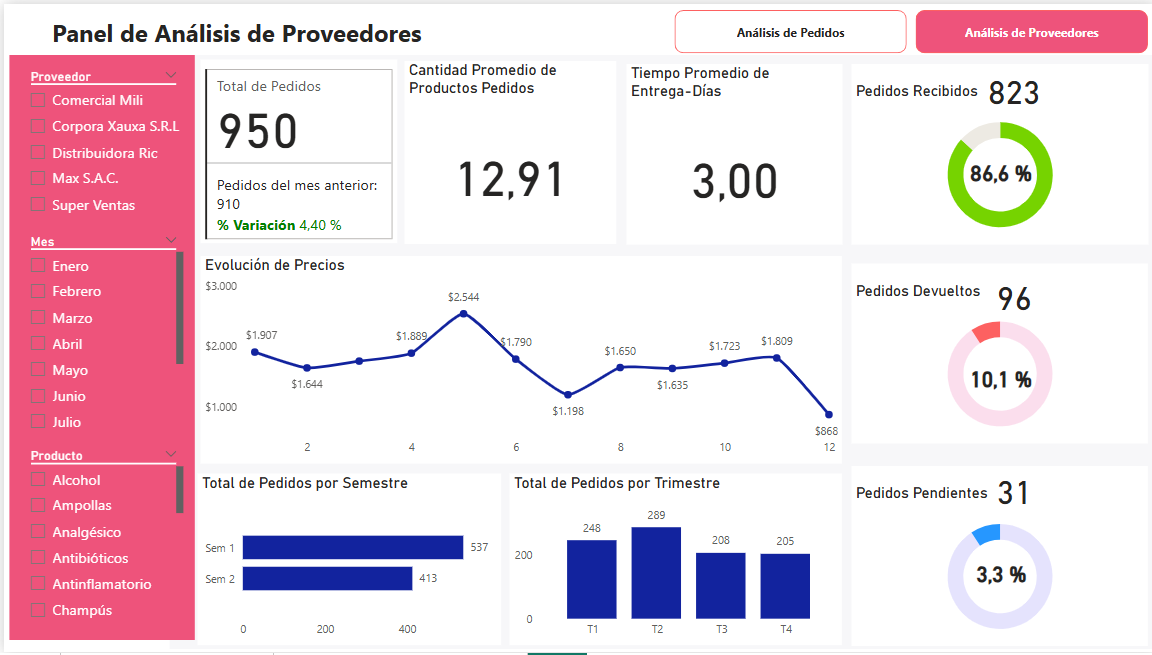

What the dashboard file says about the page in this screenshot:
{"tool":"powerbi","page":{"name":"Análisis de Proveedores","canvas":[1280,720],"ordinal":2},"visuals":[{"type":"cardVisual","fields":{"Data":["Dax Medidas.Total de Pedidos"]},"box":[217.9,62.2,218.8,204.3],"z":0},{"type":"slicer","fields":{"Values":["Calendario2.Mes"]},"box":[17.3,249.9,187.7,238.7],"z":1000},{"type":"card","title":"Cantidad Promedio de Productos Pedidos","fields":{"Values":["Dax Medidas.Cantidad Promedio de Productos Pedidos"]},"box":[444.5,63.2,235.4,203.3],"z":2000},{"type":"card","title":"Tiempo Promedio de Entrega-Días","fields":{"Values":["Dax Medidas.Tiempo Promedio de Entrega-Días"]},"box":[691.6,66.1,240.2,200.4],"z":3000},{"type":"lineChart","title":"Evolución de Precios","fields":{"Category":["Calendario2.Mes Num"],"Y":["Sum(Datos1.Precio U.)"]},"box":[218.8,280.1,712.9,230.5],"z":4000},{"type":"clusteredBarChart","fields":{"Category":["Calendario2.Semestre"],"Y":["Dax Medidas.Total de Pedidos"]},"box":[215,522.3,337.5,190.6],"z":5000},{"type":"clusteredColumnChart","fields":{"Category":["Calendario2.Trimestre"],"Y":["Dax Medidas.Total de Pedidos"]},"box":[562.2,522.3,369.6,190.6],"z":6000},{"type":"donutChart","title":"Pedidos Recibidos ","fields":{"Y":["Dax Medidas.Pedidos Recibidos","Dax Medidas.Gráficos Recibidos"]},"box":[942.5,66.1,329.7,200.4],"z":7000},{"type":"card","fields":{"Values":["Dax Medidas.Pedidos Recibidos"]},"box":[1079.1,66.3,87.7,56.1],"z":8000},{"type":"card","fields":{"Values":["Dax Medidas.% Pedidos Recibidos"]},"box":[1058.2,157.6,98.2,56.4],"z":9000},{"type":"donutChart","title":"Pedidos Devueltos ","fields":{"Y":["Dax Medidas.Gráfico Devueltos","Dax Medidas.Pedidos Devueltos"]},"box":[942.4,288.6,329.4,199.9],"z":10000},{"type":"card","fields":{"Values":["Dax Medidas.% Pedidos Devueltos"]},"box":[1058.7,388.6,97.9,56.1],"z":11000},{"type":"card","fields":{"Values":["Dax Medidas.Pedidos Devueltos"]},"box":[1078.7,295.7,87.5,56.4],"z":12000},{"type":"donutChart","title":"Pedidos Pendientes","fields":{"Y":["Dax Medidas.Gráfico Devueltos","Dax Medidas.Pedidos Devueltos"]},"box":[942.4,513,329.4,200],"z":13000},{"type":"card","fields":{"Values":["Dax Medidas.% Pedidos Pendientes"]},"box":[1058.7,605.8,98.9,56.1],"z":14000},{"type":"card","fields":{"Values":["Dax Medidas.Pedidos Pendientes"]},"box":[1079.1,511,87.7,56.1],"z":15000},{"type":"slicer","fields":{"Values":["Proveedores3.Proveedor"]},"box":[17.3,66.3,187.7,191.7],"z":16000},{"type":"slicer","fields":{"Values":["Productos4.Producto"]},"box":[17.3,488.5,187.7,204],"z":17000},{"type":"textbox","box":[47.9,8.2,433.5,54.1],"z":18000},{"type":"pageNavigator","box":[744.5,6.1,526.3,49],"z":19000}]}

Visuals, with their boxes in screenshot pixels (x1, y1, x2, y2), scaled from the page's 1280x720 canvas onto the 1152x655 screenshot:
cardVisual - Dax Medidas.Total de Pedidos: (196,57,393,242)
slicer - Calendario2.Mes: (16,227,184,444)
"Cantidad Promedio de Productos Pedidos" card: (400,57,612,242)
"Tiempo Promedio de Entrega-Días" card: (622,60,839,242)
"Evolución de Precios" lineChart: (197,255,839,465)
clusteredBarChart - Calendario2.Semestre x Dax Medidas.Total de Pedidos: (194,475,497,649)
clusteredColumnChart - Calendario2.Trimestre x Dax Medidas.Total de Pedidos: (506,475,839,649)
"Pedidos Recibidos " donutChart: (848,60,1145,242)
card - Dax Medidas.Pedidos Recibidos: (971,60,1050,111)
card - Dax Medidas.% Pedidos Recibidos: (952,143,1041,195)
"Pedidos Devueltos " donutChart: (848,263,1145,444)
card - Dax Medidas.% Pedidos Devueltos: (953,354,1041,405)
card - Dax Medidas.Pedidos Devueltos: (971,269,1050,320)
"Pedidos Pendientes" donutChart: (848,467,1145,649)
card - Dax Medidas.% Pedidos Pendientes: (953,551,1042,602)
card - Dax Medidas.Pedidos Pendientes: (971,465,1050,516)
slicer - Proveedores3.Proveedor: (16,60,184,235)
slicer - Productos4.Producto: (16,444,184,630)
textbox: (43,7,433,57)
pageNavigator: (670,6,1144,50)
